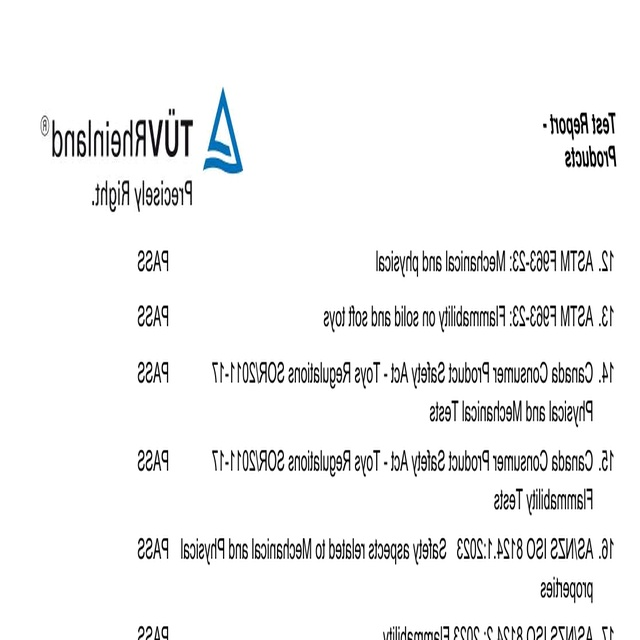tuv_rheinland: (36, 85, 247, 177)
